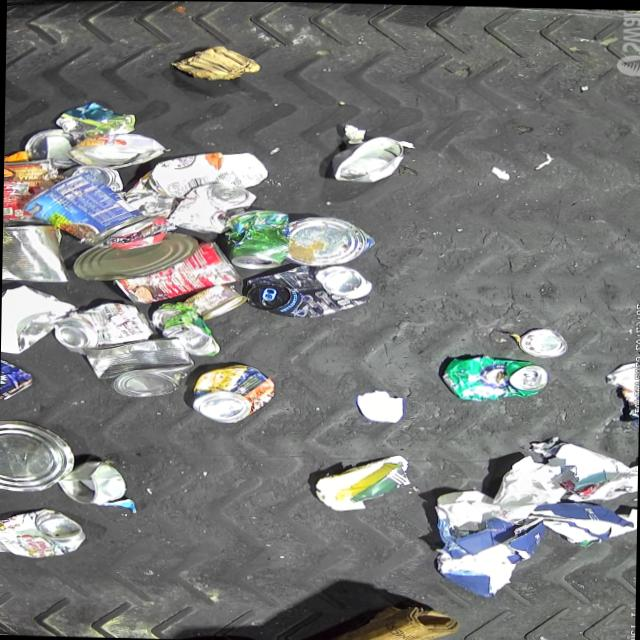can: (18, 172, 146, 248), (111, 237, 239, 306), (245, 261, 372, 319), (80, 334, 192, 399), (70, 230, 196, 282), (0, 419, 76, 494), (52, 300, 152, 355), (440, 354, 548, 402), (190, 363, 274, 424), (165, 181, 256, 235), (286, 214, 374, 267), (0, 507, 86, 561), (0, 224, 70, 283), (222, 210, 288, 271), (331, 134, 408, 184), (149, 302, 220, 356), (1, 159, 56, 226), (64, 133, 165, 169), (55, 459, 123, 505), (182, 283, 245, 321), (22, 127, 76, 168), (0, 345, 35, 401), (59, 165, 122, 191), (518, 327, 566, 357)
